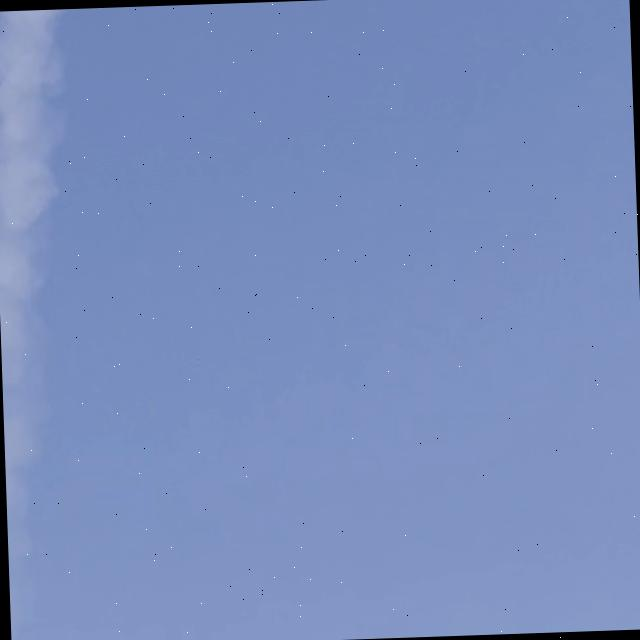smoke_trail_with_rocket: (0, 9, 60, 513)
